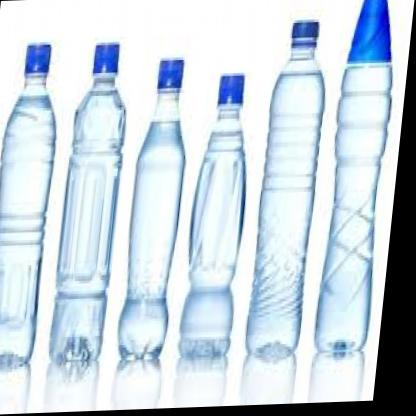Plastic: (314, 0, 406, 368), (244, 17, 336, 374), (50, 28, 138, 385), (115, 32, 202, 374), (180, 55, 263, 370), (0, 32, 72, 376)
